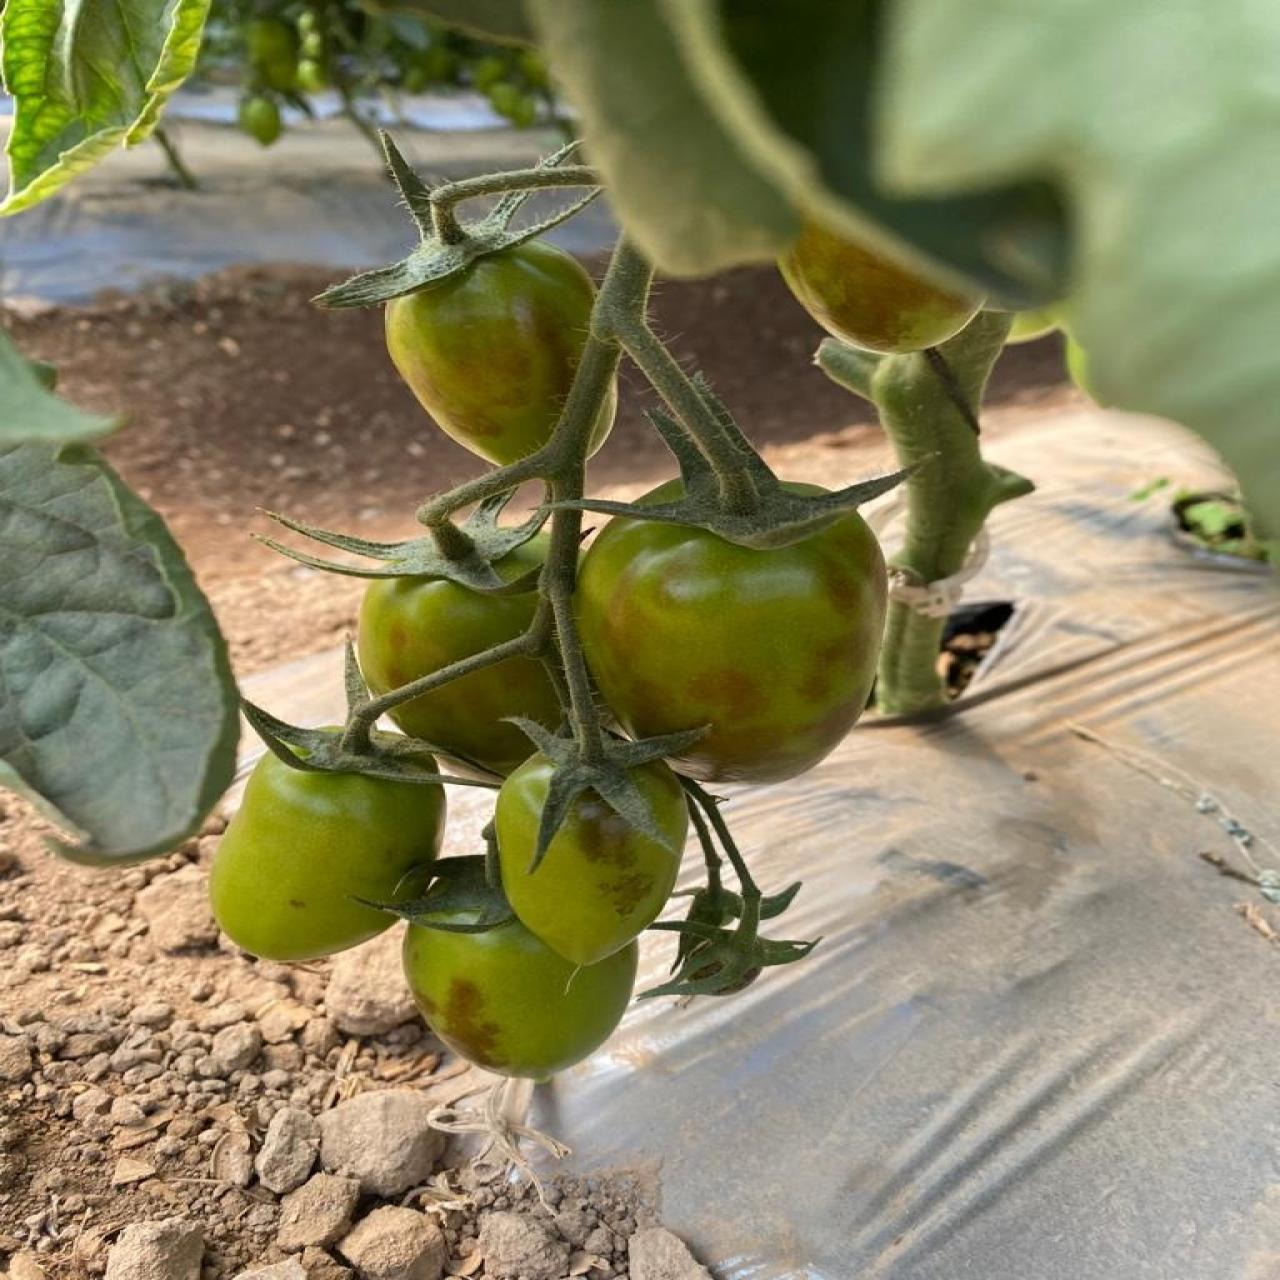T_F_R: (574, 515, 888, 784), (206, 750, 443, 965), (383, 246, 595, 472), (493, 754, 688, 965), (404, 924, 638, 1080), (778, 224, 981, 354), (388, 659, 564, 774), (361, 581, 538, 692)
T_L_H: (1, 336, 241, 864)
T_L_R: (1, 1, 209, 215)
